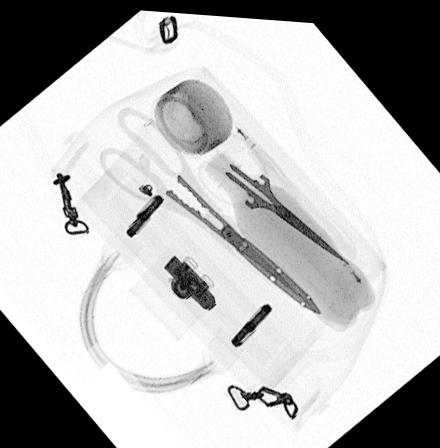Scissors: (94, 101, 329, 313), (194, 122, 353, 265)
